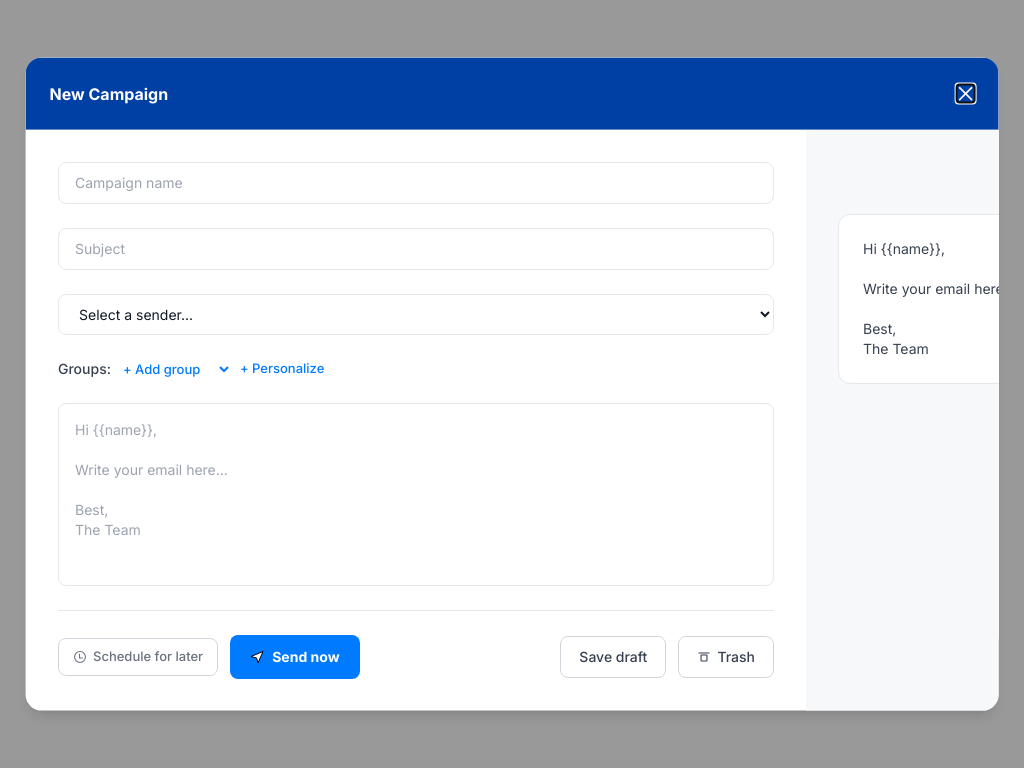
Test: CampaignComposerModal › blocks Send now and shows an error when required fields are incomplete
Type "Incomplete Campaign" into the field labelled "Campaign name" at point(416, 183), box [58,162,774,204]
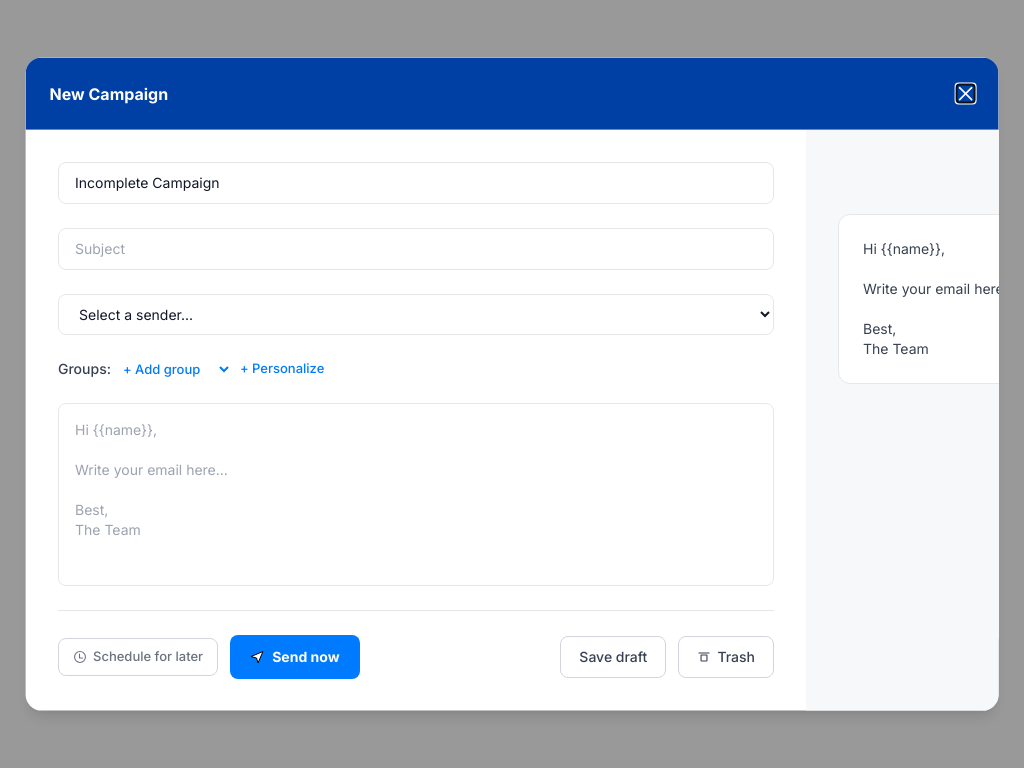
Click the button "Send now" at point(294, 656), box [230,634,359,678]
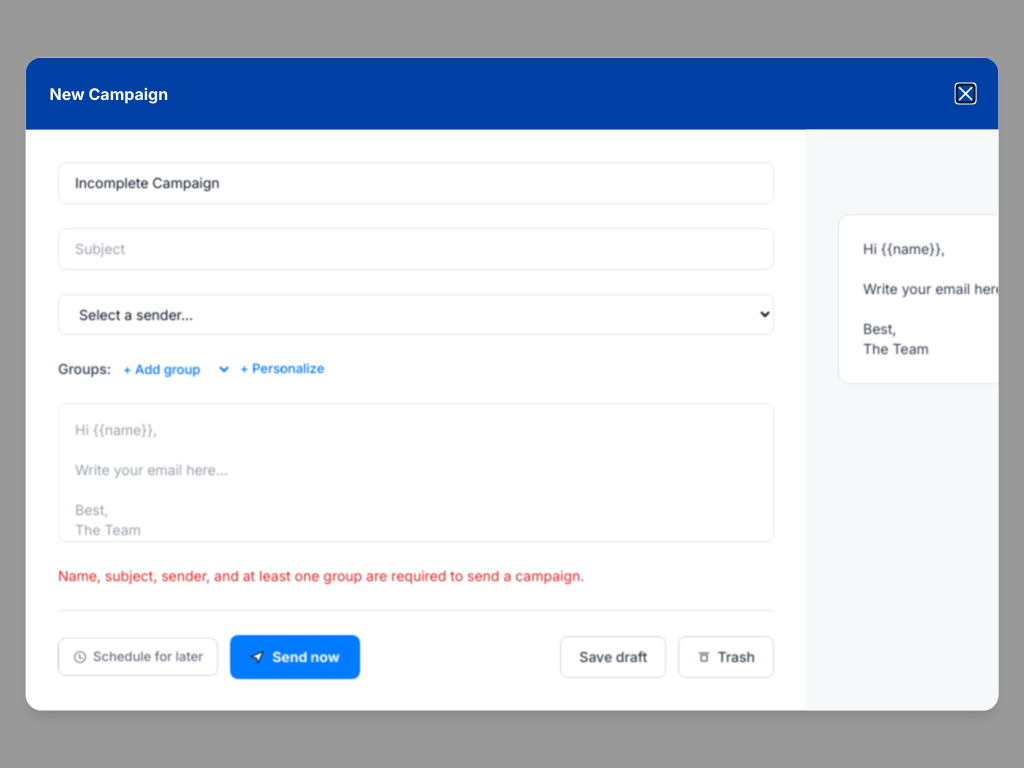
Check: the text "Name, subject, sender, and at least one group are required to send a campaign." is shown, box [58,566,584,583]
